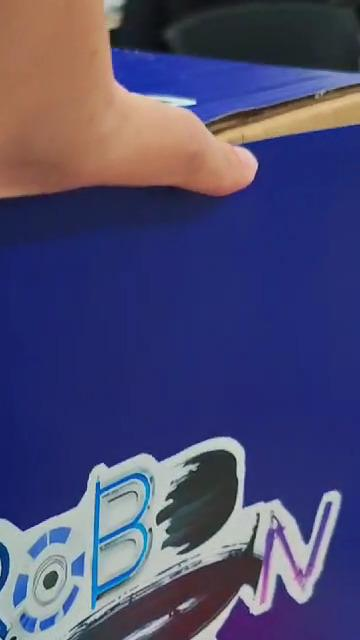B_R1: (0, 413, 336, 640)
